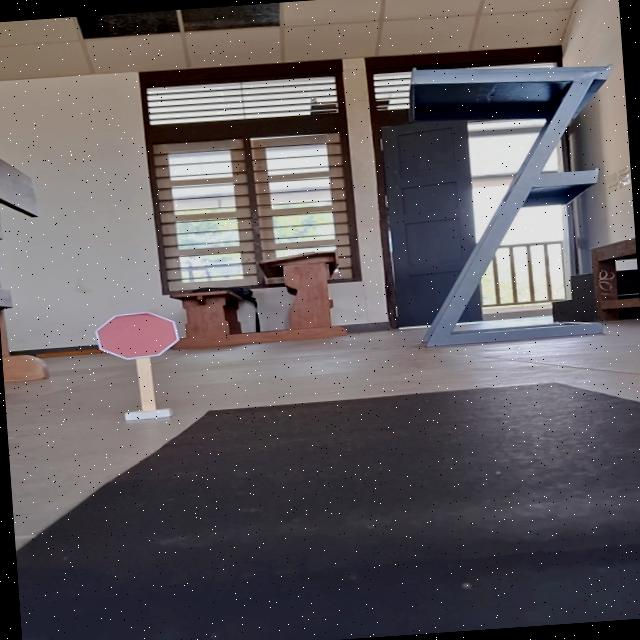Stop: (90, 308, 184, 362)
